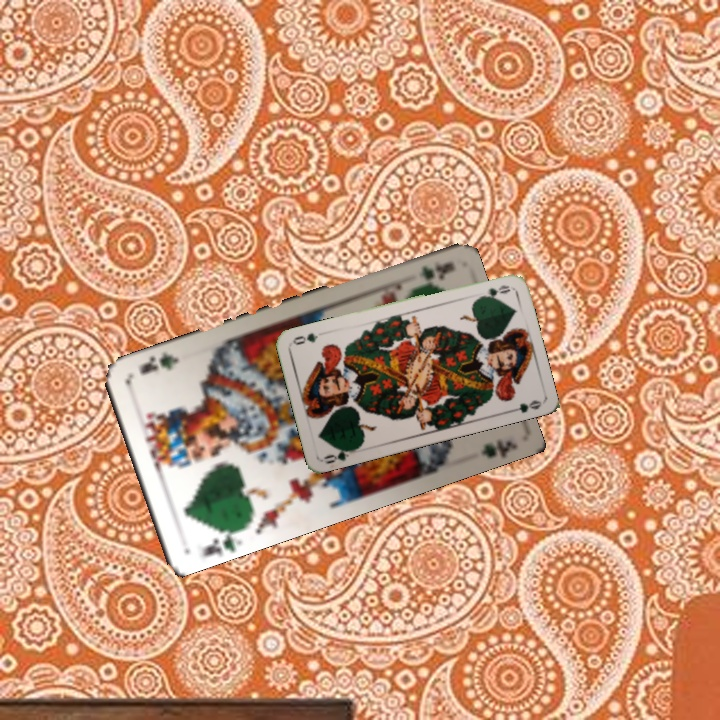GK: (198, 526, 245, 560), (415, 258, 457, 283)
GO: (320, 444, 360, 466), (474, 281, 513, 302)
